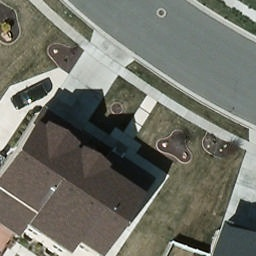car: (11, 81, 47, 111)
